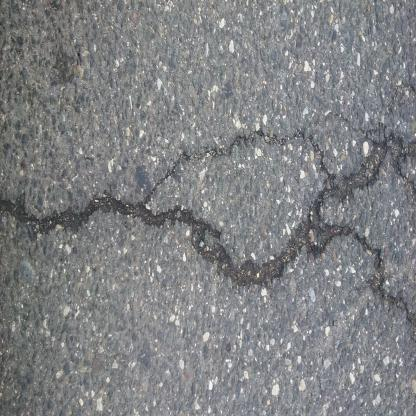Cracks: (0, 118, 416, 340)
